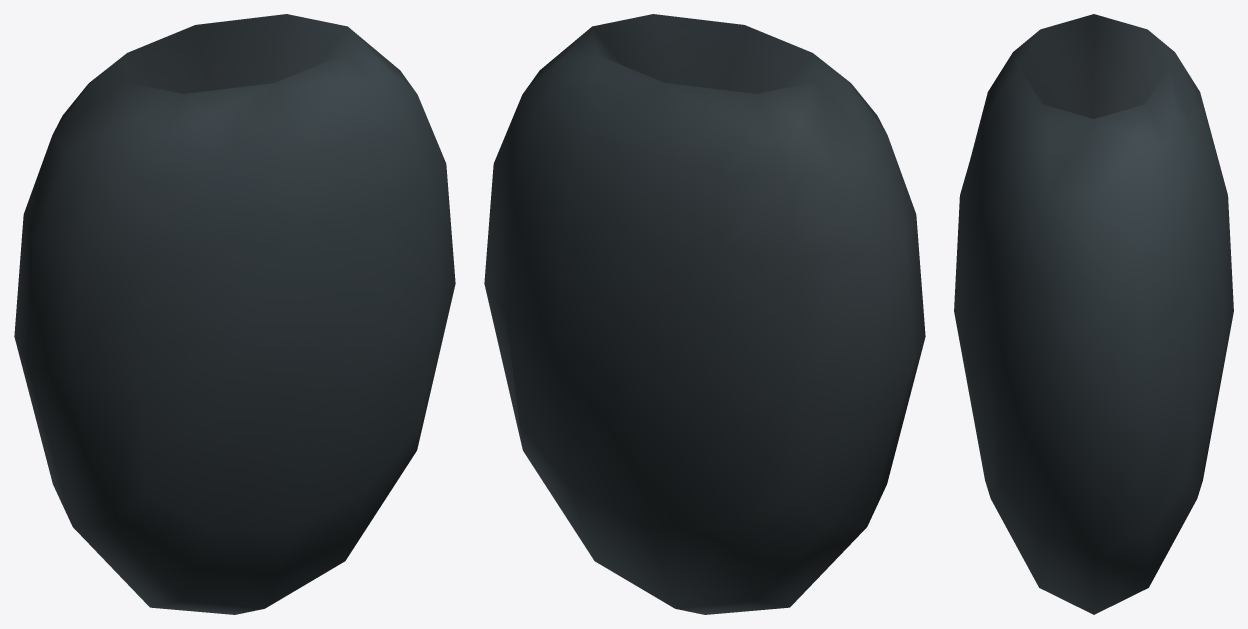
File: greens_004.fbx
The picture shows the model from 3 angles, left to right: view 1: azimuth 30°, elevation 25°; view 2: azimuth 150°, elevation 25°; view 3: azimuth 270°, elevation 25°; orthographic projection. The views are drawn at different scales.
Visible parts, largest first — view 1: greens_004; view 2: greens_004; view 3: greens_004.
Boxes of the visible parts, x1,y1,x2,y2 form: greens_004: (14, 14, 455, 614); greens_004: (484, 14, 925, 614); greens_004: (954, 14, 1233, 614).
Size of the model in its own units: 2.18 by 1.33 by 2.81.
